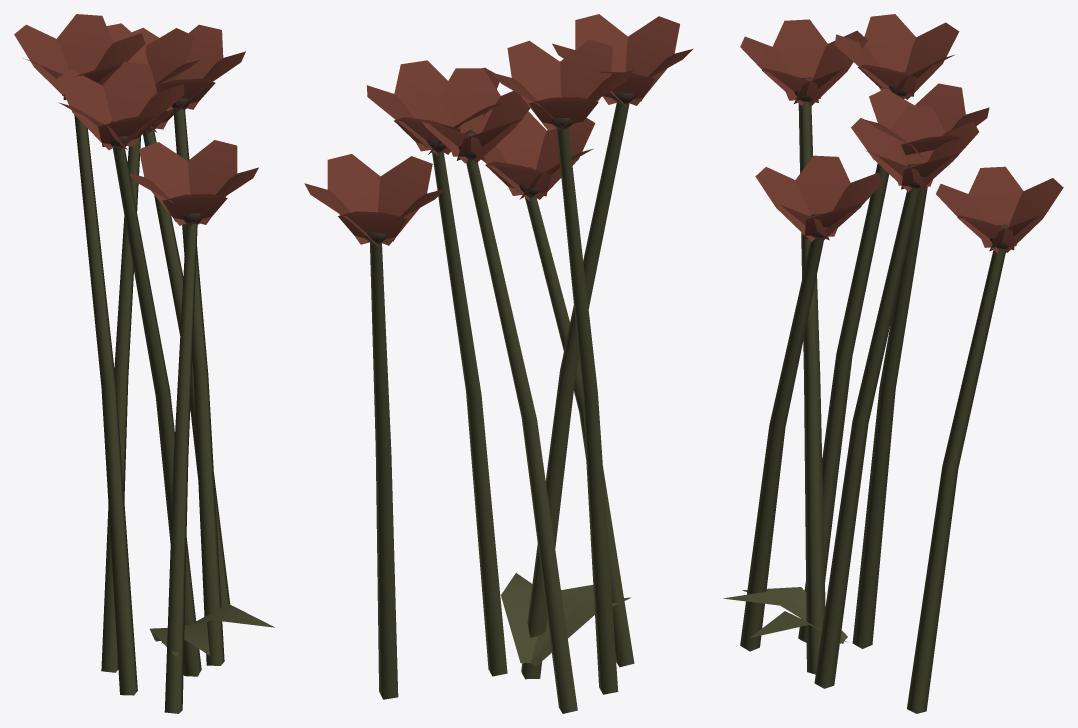
File: poppies_1_burnt2.glb
3 renders of one model, left to right at view 1: azimuth 30°, elevation 25°; view 2: azimuth 150°, elevation 25°; view 3: azimuth 270°, elevation 25°, orthographic. The views are drawn at different scales.
Visible parts, largest first — view 1: poppies_1_burnt2; view 2: poppies_1_burnt2; view 3: poppies_1_burnt2.
Part boxes in pixels (x1=…): poppies_1_burnt2: x1=14, y1=14, x2=274, y2=713; poppies_1_burnt2: x1=304, y1=14, x2=693, y2=713; poppies_1_burnt2: x1=723, y1=14, x2=1063, y2=713.
Size of the model in its own units: 0.2995 by 0.7256 by 0.3756.
